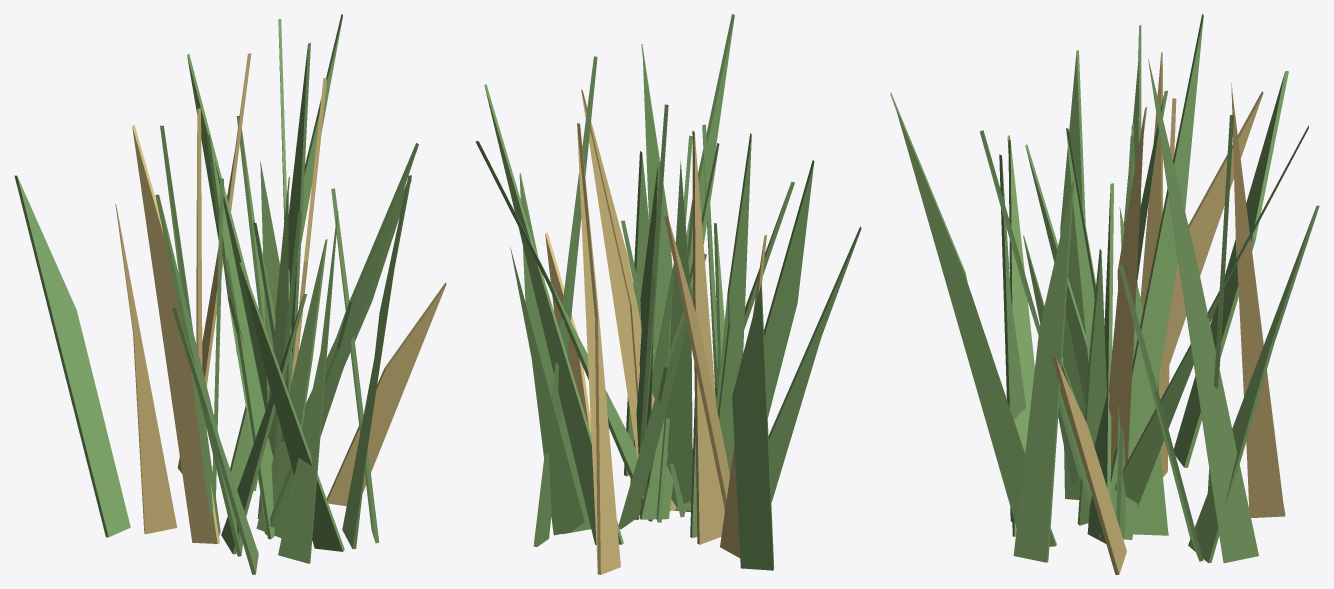
File: sm_env_forest_tall_grass_clump.glb
3 views of the same model, side by side, from view 1: azimuth 30°, elevation 25°; view 2: azimuth 150°, elevation 25°; view 3: azimuth 270°, elevation 25° (orthographic). The views are drawn at different scales.
Visible parts, largest first — view 1: GrassBlade.014, GrassBlade.025, GrassBlade.028, GrassBlade.022, GrassBlade.020, GrassBlade.027, GrassBlade.010, GrassBlade.003, GrassBlade.018, GrassBlade.009, GrassBlade.004, GrassBlade.008 (+17 smaller); view 2: GrassBlade.014, GrassBlade.029, GrassBlade.012, GrassBlade.024, GrassBlade.026, GrassBlade.020, GrassBlade.016, GrassBlade.007, GrassBlade, GrassBlade.008, GrassBlade.023, GrassBlade.021 (+18 smaller); view 3: GrassBlade.008, GrassBlade.002, GrassBlade.018, GrassBlade.004, GrassBlade.029, GrassBlade.026, GrassBlade.014, GrassBlade, GrassBlade.007, GrassBlade.025, GrassBlade.019, GrassBlade.027 (+16 smaller).
Boxes of the visible parts, left/top/right/bottom form: GrassBlade.014: left=14, top=175, right=130, bottom=537; GrassBlade.025: left=132, top=125, right=219, bottom=543; GrassBlade.028: left=115, top=204, right=177, bottom=534; GrassBlade.022: left=278, top=211, right=338, bottom=563; GrassBlade.020: left=206, top=135, right=274, bottom=539; GrassBlade.027: left=326, top=282, right=446, bottom=506; GrassBlade.010: left=239, top=261, right=344, bottom=551; GrassBlade.003: left=264, top=143, right=418, bottom=534; GrassBlade.018: left=342, top=175, right=411, bottom=549; GrassBlade.009: left=256, top=239, right=327, bottom=538; GrassBlade.004: left=187, top=54, right=267, bottom=410; GrassBlade.008: left=288, top=42, right=310, bottom=365; GrassBlade.014: left=732, top=283, right=774, bottom=570; GrassBlade.029: left=577, top=123, right=620, bottom=574; GrassBlade.012: left=484, top=84, right=623, bottom=544; GrassBlade.024: left=692, top=130, right=724, bottom=544; GrassBlade.026: left=581, top=89, right=675, bottom=510; GrassBlade.020: left=664, top=161, right=692, bottom=512; GrassBlade.016: left=716, top=133, right=751, bottom=512; GrassBlade.007: left=510, top=246, right=584, bottom=535; GrassBlade: left=764, top=160, right=814, bottom=417; GrassBlade.008: left=533, top=56, right=597, bottom=546; GrassBlade.023: left=768, top=226, right=861, bottom=502; GrassBlade.021: left=618, top=253, right=706, bottom=529; GrassBlade.008: left=1148, top=59, right=1258, bottom=563; GrassBlade.002: left=1013, top=180, right=1074, bottom=562; GrassBlade.018: left=890, top=92, right=1056, bottom=546; GrassBlade.004: left=1098, top=14, right=1203, bottom=539; GrassBlade.029: left=1231, top=83, right=1285, bottom=517; GrassBlade.026: left=1108, top=107, right=1146, bottom=471; GrassBlade.014: left=1174, top=71, right=1288, bottom=467; GrassBlade: left=1060, top=50, right=1085, bottom=499; GrassBlade.007: left=1188, top=205, right=1319, bottom=563; GrassBlade.025: left=1160, top=91, right=1263, bottom=389; GrassBlade.019: left=1114, top=125, right=1308, bottom=506; GrassBlade.027: left=1052, top=357, right=1126, bottom=574.
Size of the model in its own units: 0.7843 by 1.07 by 0.8337.
